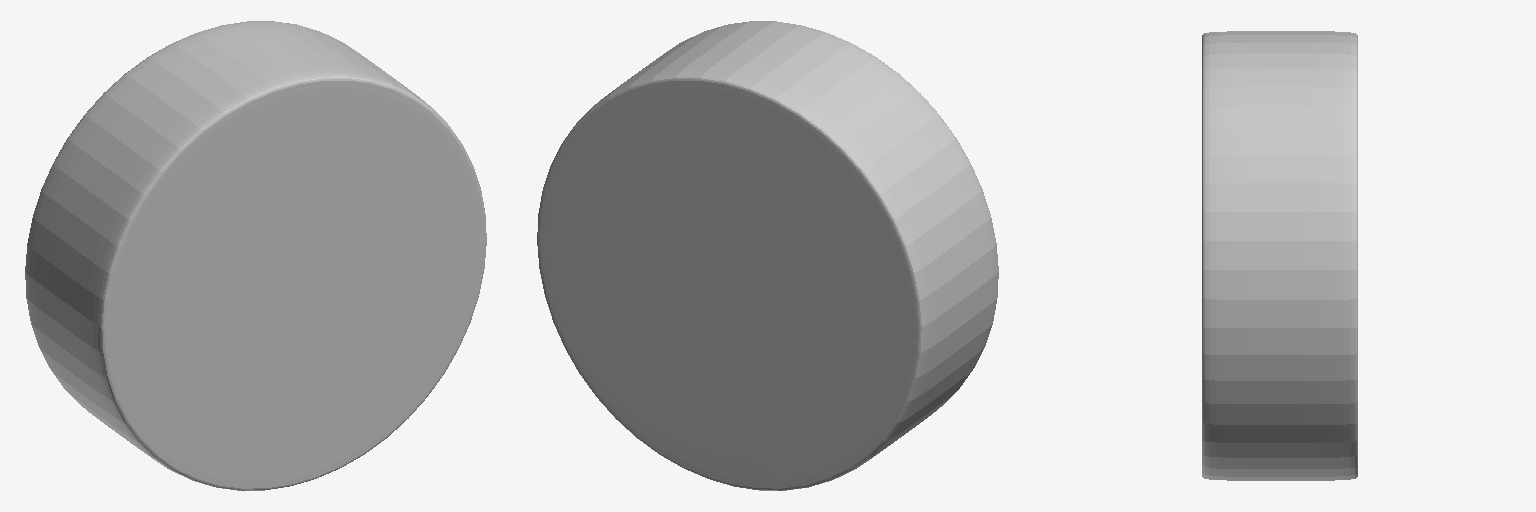
Rendered from CheckerPiece.obj.
3 views of the same model, side by side, from view 1: azimuth 30°, elevation 25°; view 2: azimuth 150°, elevation 25°; view 3: azimuth 270°, elevation 25° (orthographic).
Parts seen in each view (by area): view 1: CheckerPiece; view 2: CheckerPiece; view 3: CheckerPiece.
Boxes of the visible parts, <box> form: CheckerPiece: <box>25,21,486,490</box>; CheckerPiece: <box>537,21,998,490</box>; CheckerPiece: <box>1202,31,1357,480</box>.
Size of the model in its own units: 7.3 by 7.3 by 2.54.